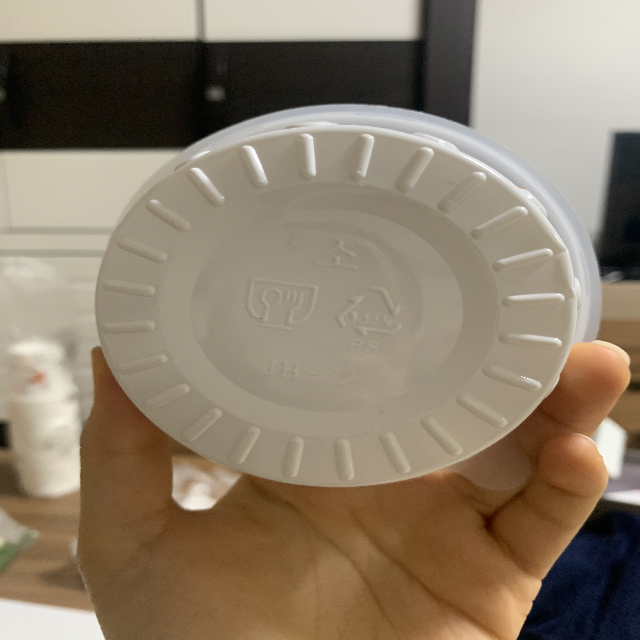ps: (333, 282, 404, 357)
